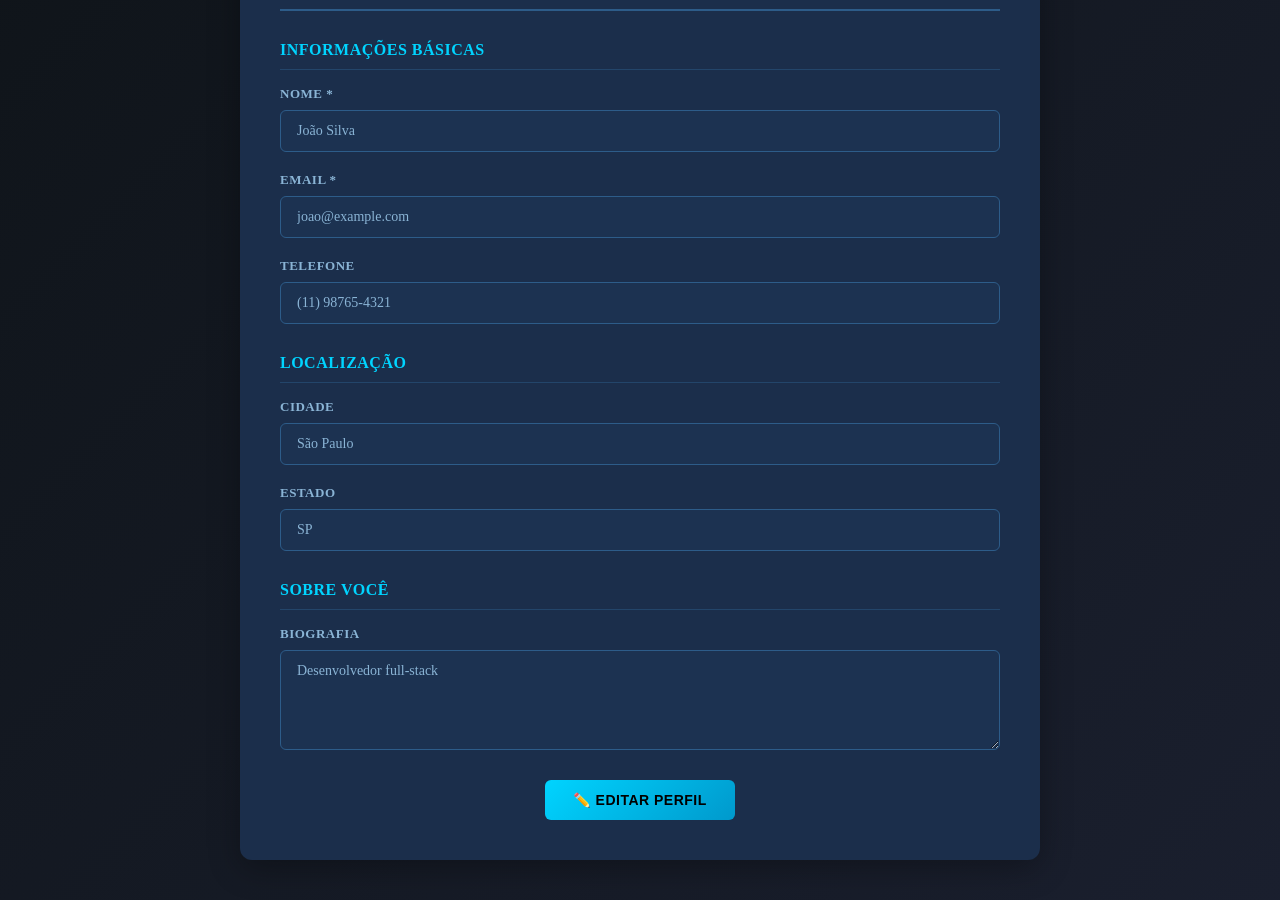
it: Componente Perfil › valida campo de nome obrigatório
The image size is (1280, 900).
(page scrolled)
expect the field showing "João Silva" is shown: met, box [280,110,1000,152]
Click the button "✏️ Editar Perfil": (640,800) [545,780,735,820]
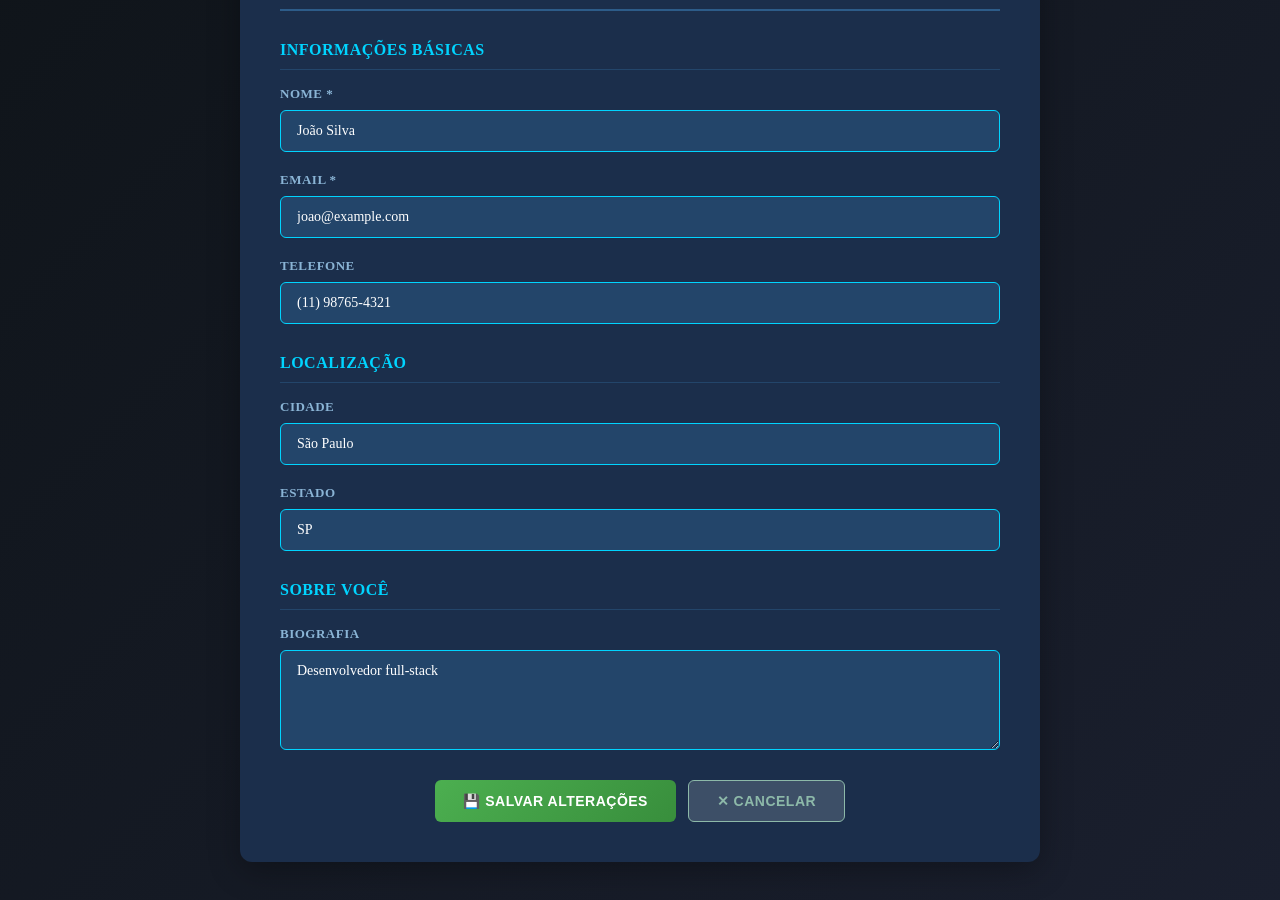
Clear the field showing "João Silva": (640,131) [280,110,1000,152]
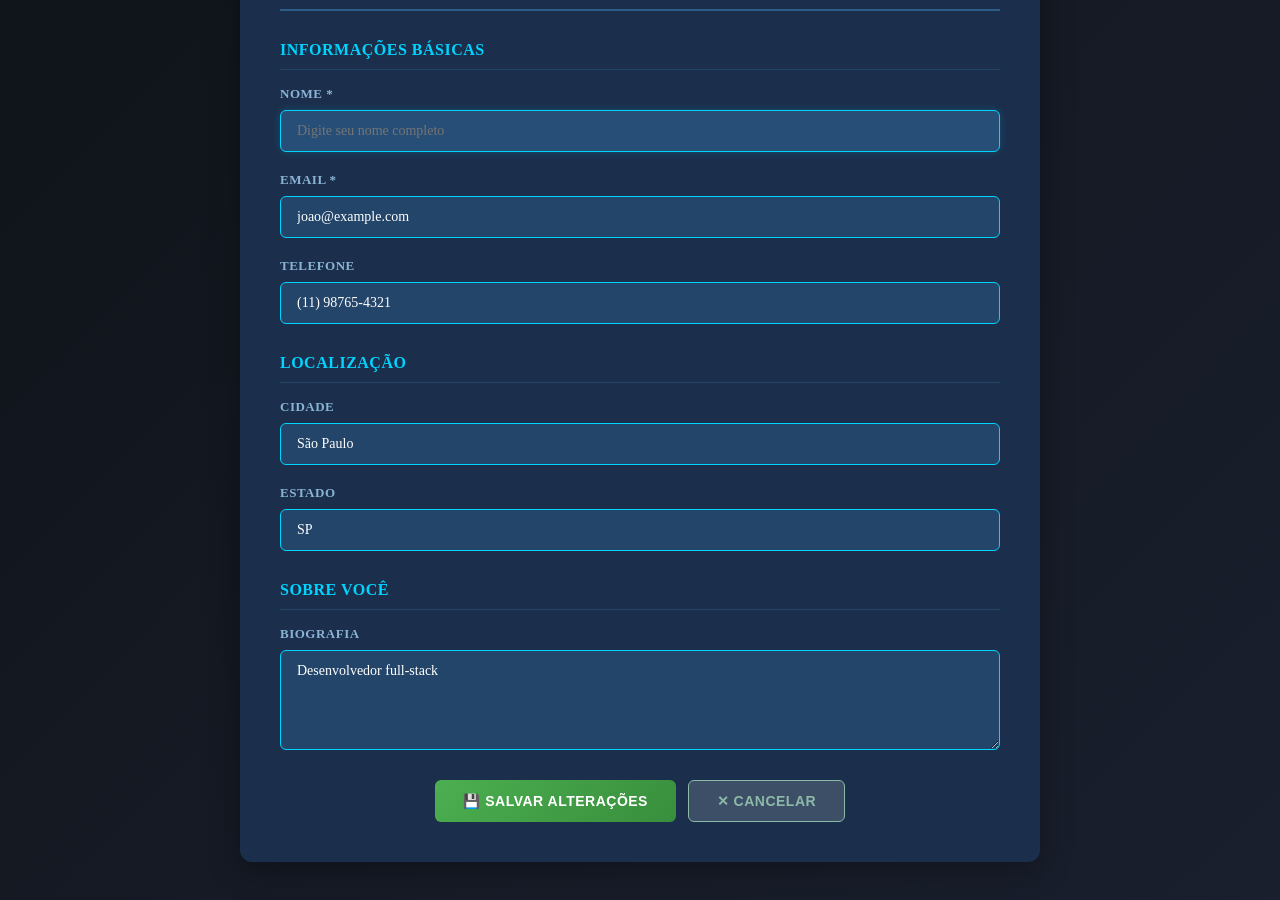
Click the button "💾 Salvar Alterações": (555,801) [435,780,676,822]
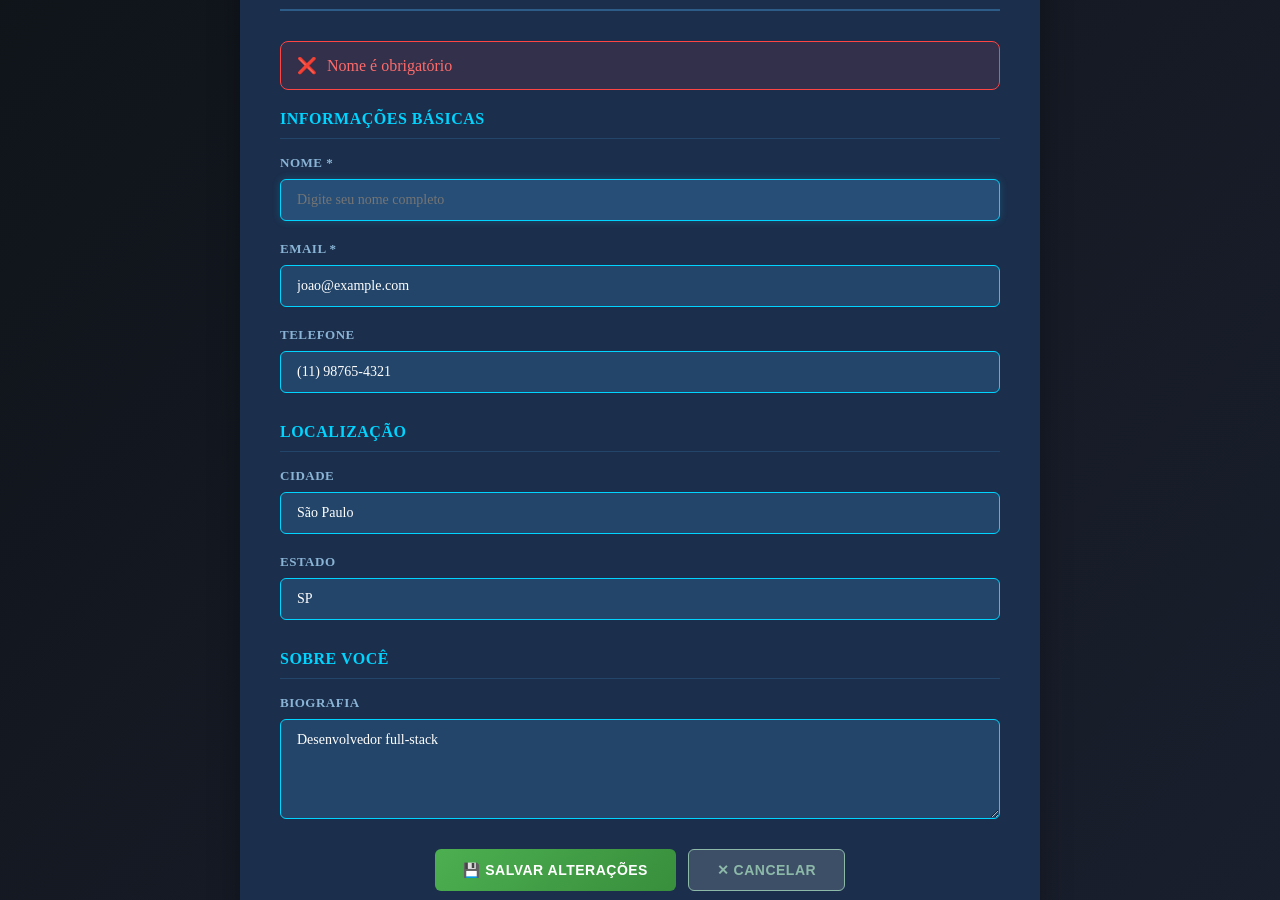
expect the text "Nome é obrigatório" is shown: met, box [327,56,452,74]
